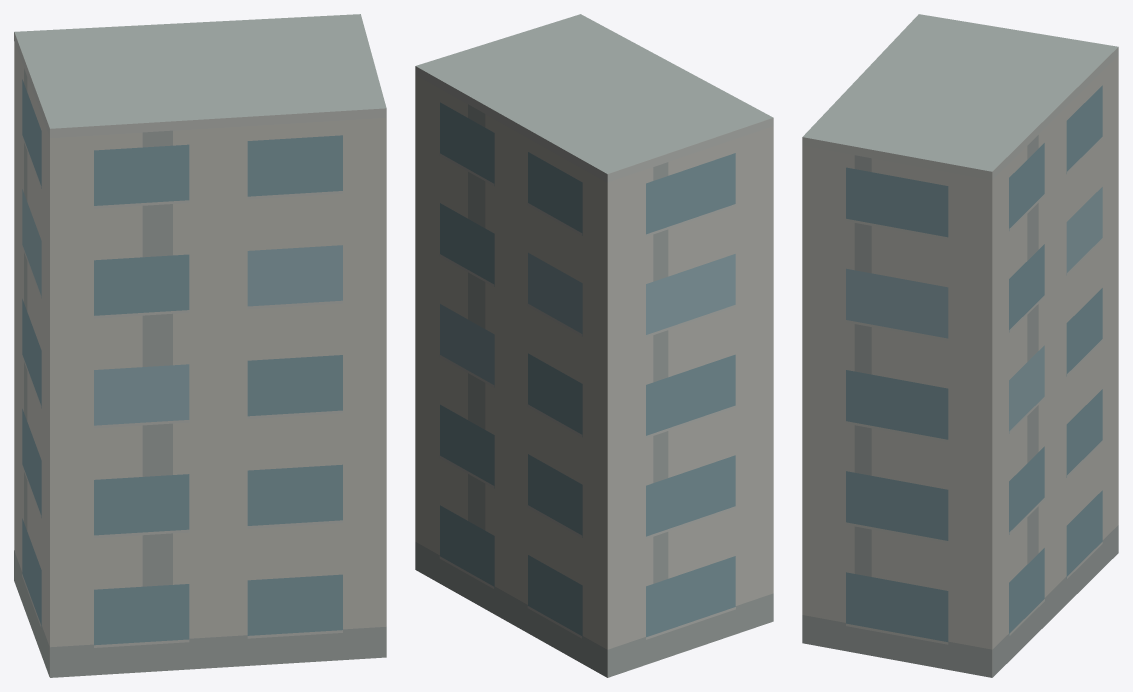
File: survey-upis-32956254.glb
3 views of the same model, side by side, from view 1: azimuth 30°, elevation 25°; view 2: azimuth 150°, elevation 25°; view 3: azimuth 270°, elevation 25° (orthographic). The views are drawn at different scales.
Parts seen in each view (by area): view 1: survey-upis-32956254.tmp; view 2: survey-upis-32956254.tmp; view 3: survey-upis-32956254.tmp.
Boxes of the visible parts, <box> form: survey-upis-32956254.tmp: <box>14,14,386,677</box>; survey-upis-32956254.tmp: <box>415,14,773,677</box>; survey-upis-32956254.tmp: <box>802,14,1118,677</box>.
Size of the model in its own units: 9.64 by 14.4 by 8.17.
